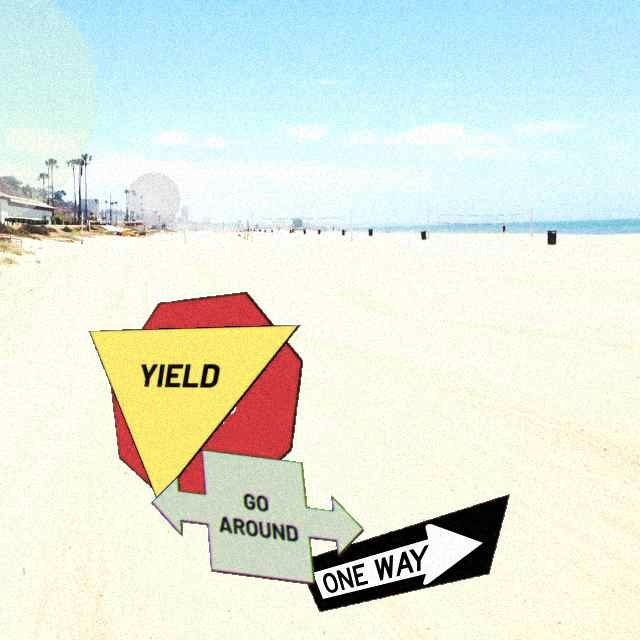GO_AROUND: (151, 449, 364, 585)
ONE_WAY_ right: (297, 493, 510, 612)
STOP: (109, 291, 303, 504)
YIELD: (88, 324, 301, 503)
